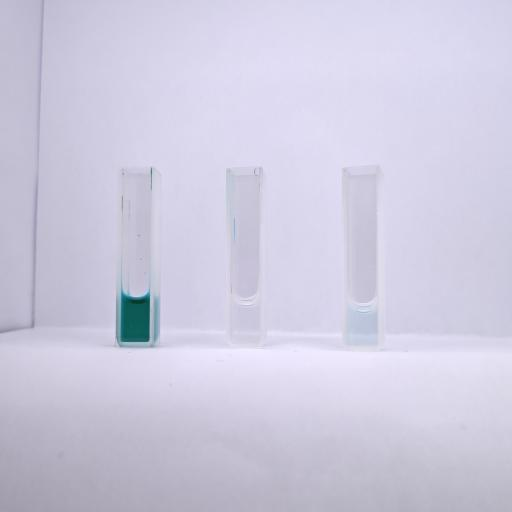cuvette: (340, 162, 384, 352), (114, 164, 156, 350), (224, 166, 265, 350)
liquid: (121, 294, 150, 342), (347, 303, 378, 345), (232, 297, 260, 342)
